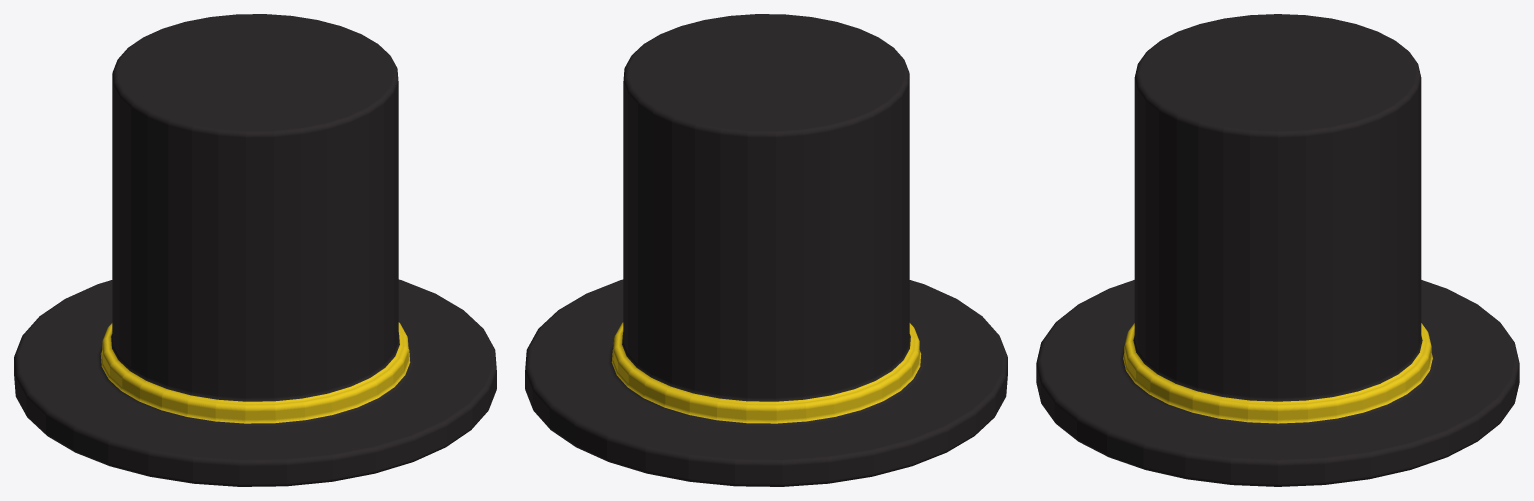
Rendered from tophat.fbx.
3 views of the same model, side by side, from view 1: azimuth 30°, elevation 25°; view 2: azimuth 150°, elevation 25°; view 3: azimuth 270°, elevation 25° (orthographic).
Visible parts, largest first — view 1: TopHat; view 2: TopHat; view 3: TopHat.
Part boxes in pixels (x1,y1,x2,y2): TopHat: (14, 14, 496, 486); TopHat: (525, 14, 1007, 486); TopHat: (1036, 14, 1519, 486).
Bounding box in the file's own units: 200 × 143 × 200.
